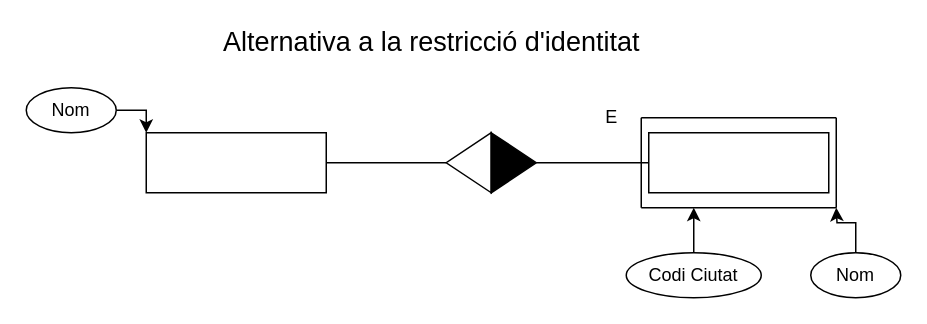
This 927x324 diagram has some shape labels left out. The shapes that lost their labels are listed below. From the top down, each one's centre as x and y in pixels, then its label:
At point 235,162: "País".
At point 738,162: "Ciutat".
